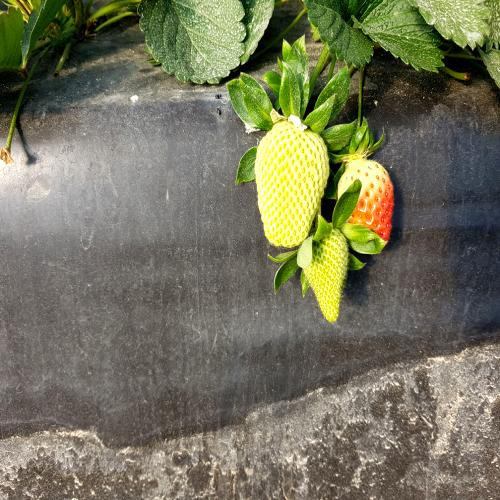partially-ripe: (335, 147, 399, 264)
unripe: (252, 113, 328, 259)
